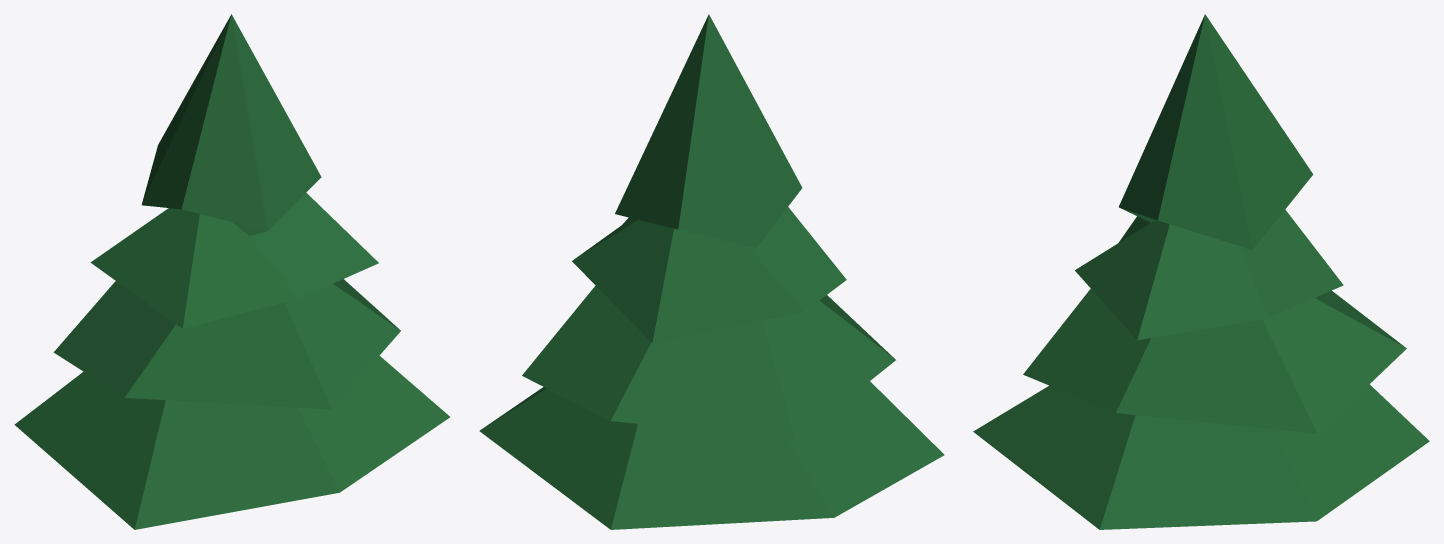
File: AA_Pinetree_05.fbx
The picture shows the model from 3 angles, left to right: view 1: azimuth 30°, elevation 25°; view 2: azimuth 150°, elevation 25°; view 3: azimuth 270°, elevation 25°; orthographic projection. The views are drawn at different scales.
Visible parts, largest first — view 1: Pinetree_05; view 2: Pinetree_05; view 3: Pinetree_05.
Part boxes in pixels (box(x1,y1,x2,y2)): Pinetree_05: box(14, 14, 450, 529); Pinetree_05: box(479, 14, 944, 529); Pinetree_05: box(973, 14, 1429, 529).
Size of the model in its own units: 1024 by 1339 by 1140.
